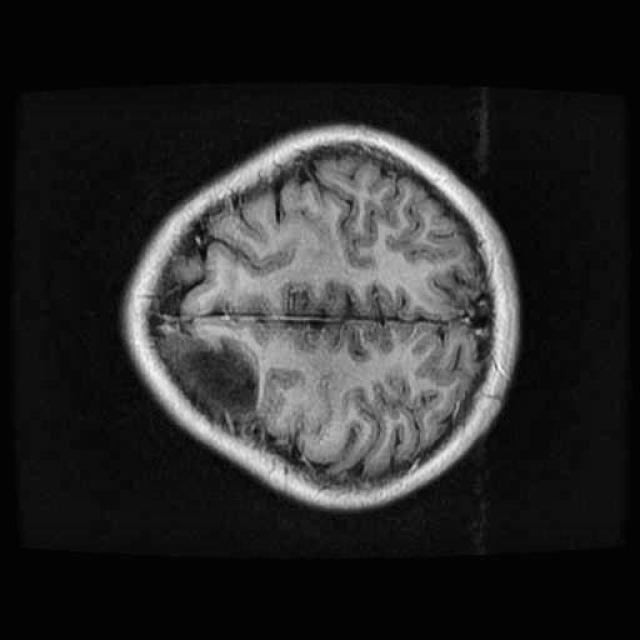Tumor: (135, 316, 274, 432)
